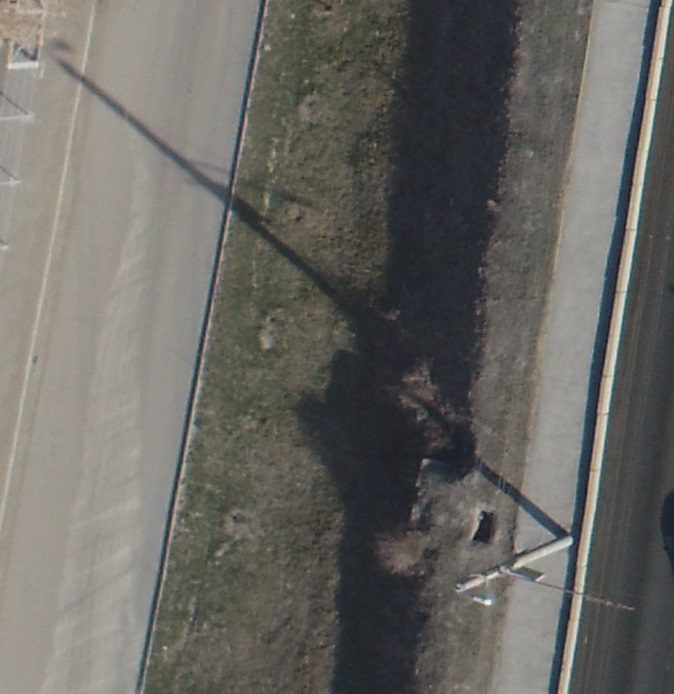opora: (445, 473, 576, 607)
